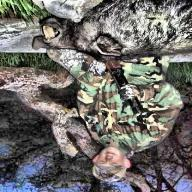boar: (33, 0, 192, 85)
